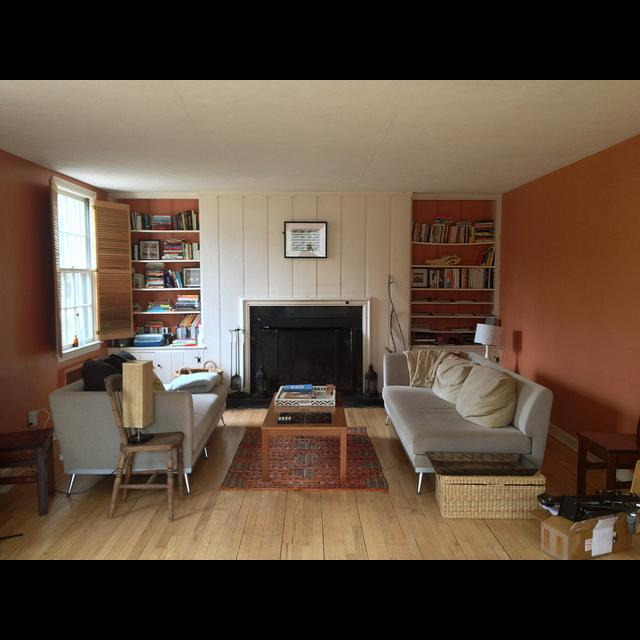Flat-Panel-TV: (240, 299, 372, 402)
